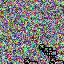sheep: (39, 44, 53, 55), (43, 47, 57, 58), (23, 57, 38, 64), (49, 57, 64, 64)
